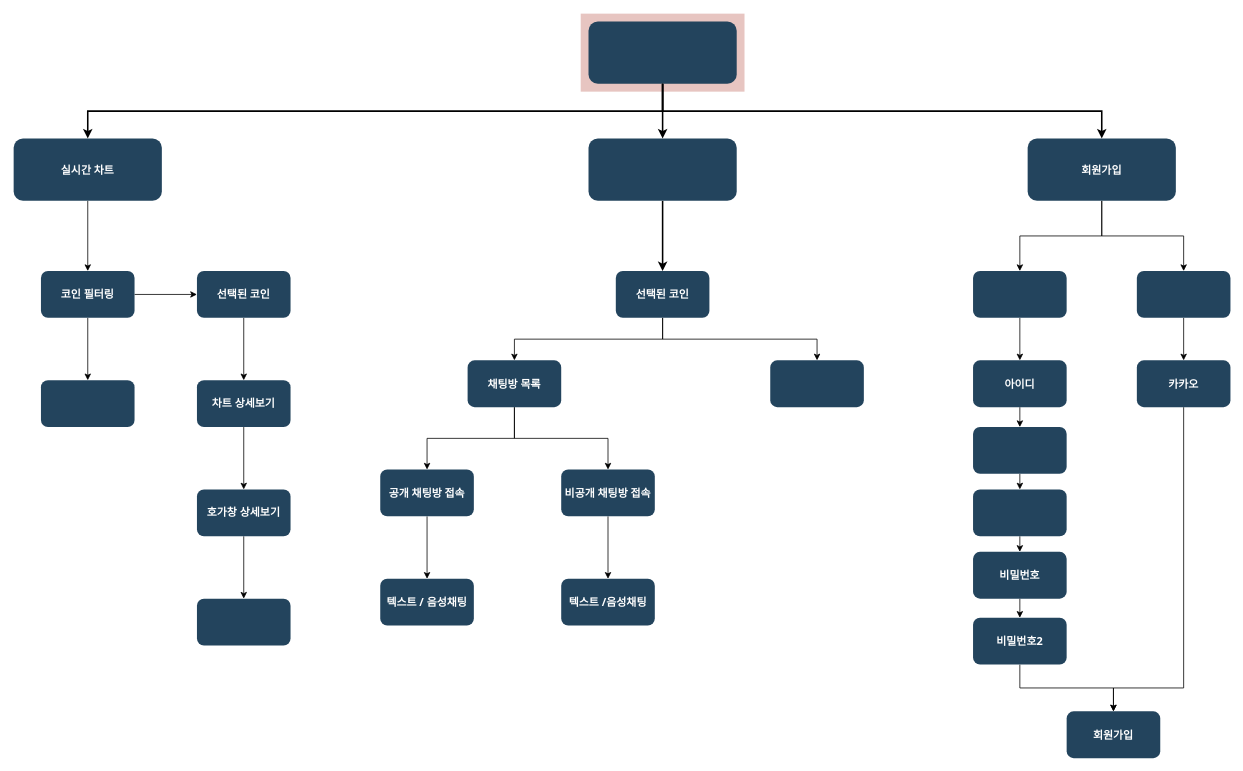
This 1243x771 diagram has some shape labels left out. Here are the shapes that lost their labels. From the top down, the centre of each, then its label:
At pixel 662 52: "coinTalk".
At pixel 662 169: "채팅 방".
At pixel 1019 294: "일반 가입".
At pixel 1183 294: "Oauth".
At pixel 87 403: "전체 코인 체결내역 반영".
At pixel 816 383: "선택된 코인 차트 상세 보기".
At pixel 1019 450: "프로필".
At pixel 1019 512: "닉네임".
At pixel 243 621: "체결내역 상세보기".
